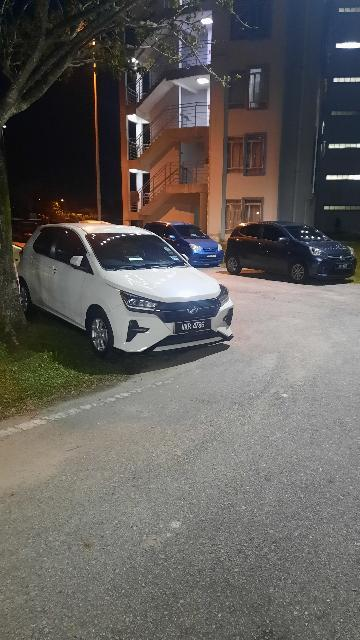License_Plate: (171, 316, 218, 338)
car: (20, 218, 250, 355)
